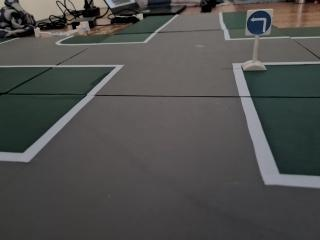left: (243, 6, 277, 39)
